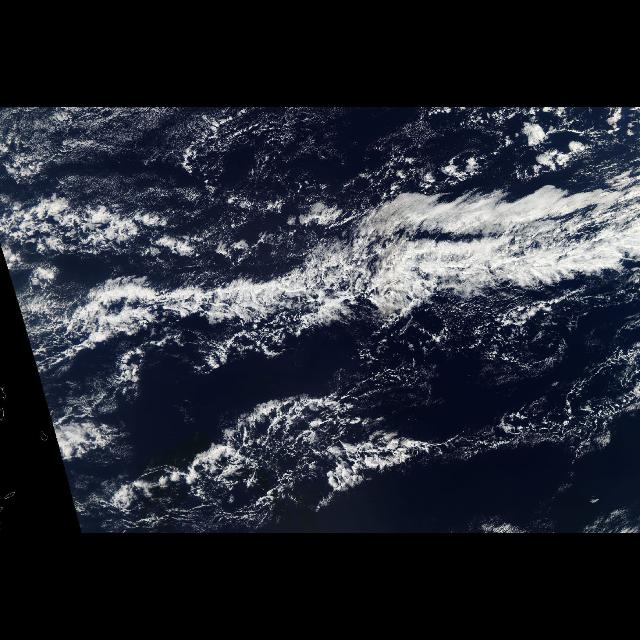Fish: (8, 182, 640, 358), (133, 383, 399, 525)
Sugar: (1, 107, 637, 370), (96, 392, 638, 526)
